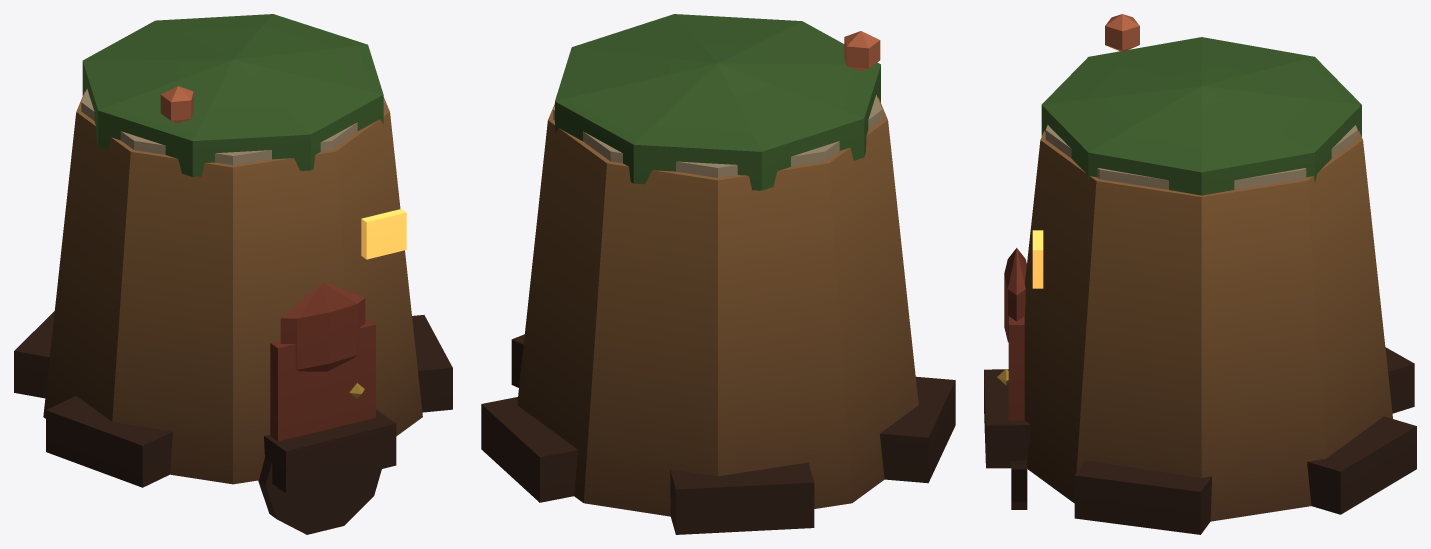
File: gnome_stump.glb
The picture shows the model from 3 angles, left to right: view 1: azimuth 30°, elevation 25°; view 2: azimuth 150°, elevation 25°; view 3: azimuth 270°, elevation 25°; orthographic projection. The views are drawn at different scales.
Parts seen in each view (by area): view 1: gnome_stump; view 2: gnome_stump; view 3: gnome_stump.
Boxes of the visible parts, <box> form: gnome_stump: <box>14,14,452,534</box>; gnome_stump: <box>481,14,955,534</box>; gnome_stump: <box>984,14,1416,534</box>.
Bounding box in the file's own units: 1.71 × 1.84 × 1.64.
